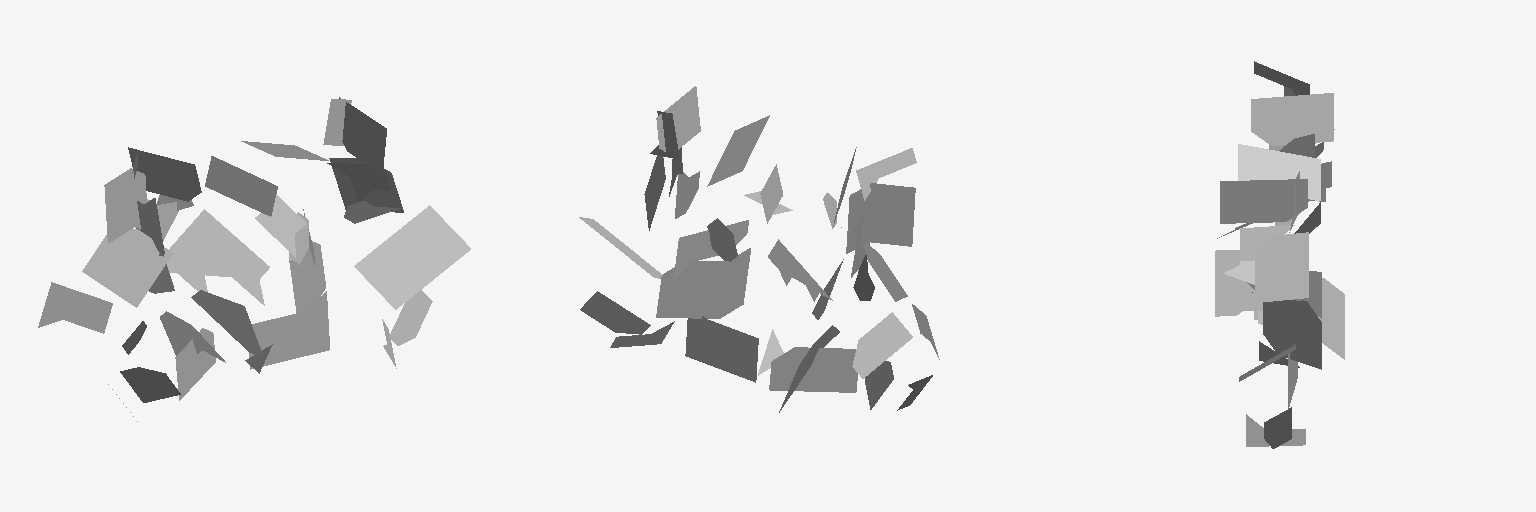
Rendered from warning0002.obj.
3 views of the same model, side by side, from view 1: azimuth 30°, elevation 25°; view 2: azimuth 150°, elevation 25°; view 3: azimuth 270°, elevation 25° (orthographic).
Parts seen in each view (by area): view 1: warning; view 2: warning; view 3: warning.
Part boxes in pixels (left/top/right/bottom): warning: left=38, top=97, right=470, bottom=421; warning: left=579, top=86, right=939, bottom=412; warning: left=1215, top=61, right=1344, bottom=448.
Bounding box in the file's own units: 1.7 × 1.09 × 0.4918.